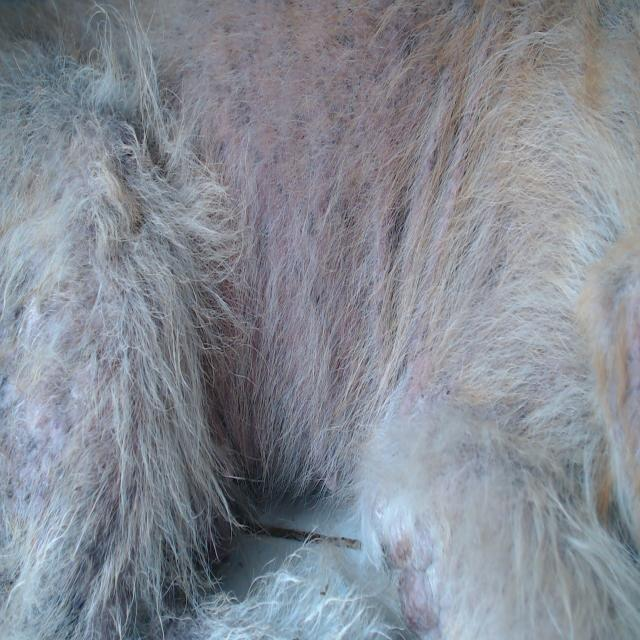demodicosis: (222, 90, 371, 303), (14, 378, 103, 512), (379, 538, 437, 626)
